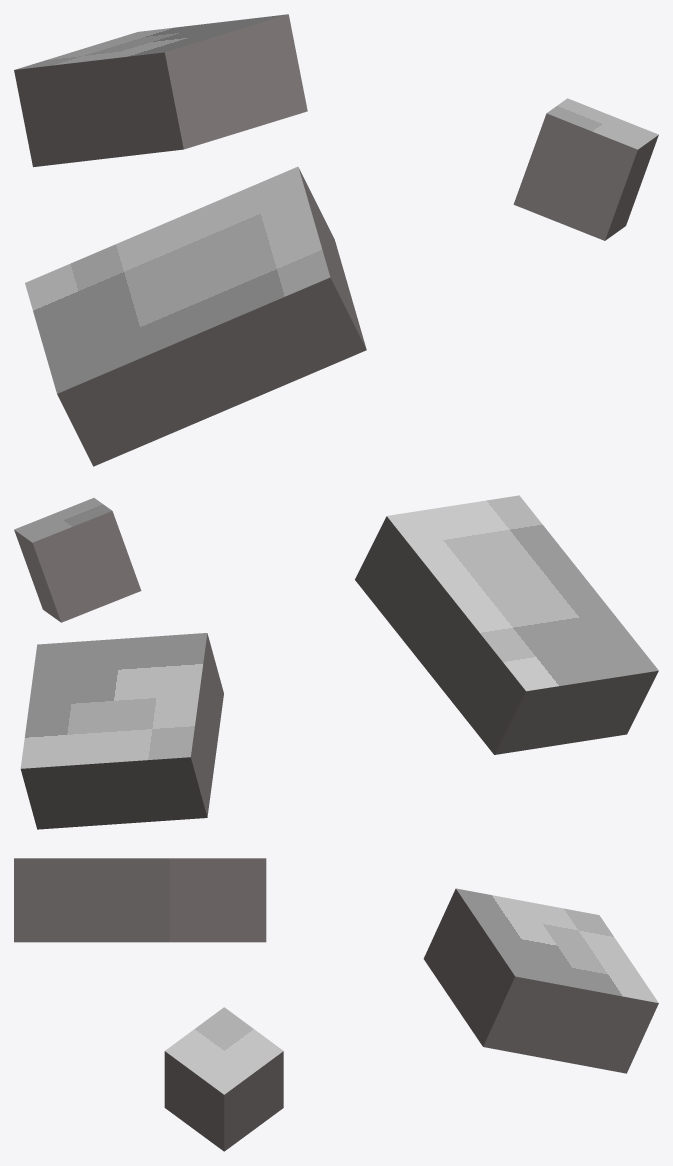
The model's file is rocks.obj.
The picture shows the model from 3 angles, top to bottom: view 1: azimuth 30°, elevation 25°; view 2: azimuth 150°, elevation 25°; view 3: azimuth 270°, elevation 25°; orthographic projection. The views are drawn at different scales.
Parts seen in each view (by area): view 1: cuboid; view 2: cuboid; view 3: cuboid.
Part boxes in pixels (x1,y1,x2,y2): cuboid: (14, 14, 658, 466); cuboid: (14, 495, 658, 829); cuboid: (14, 858, 658, 1151).
Size of the model in its own units: 0.9712 by 0.3001 by 0.9577.
1 material, 1 textured.
